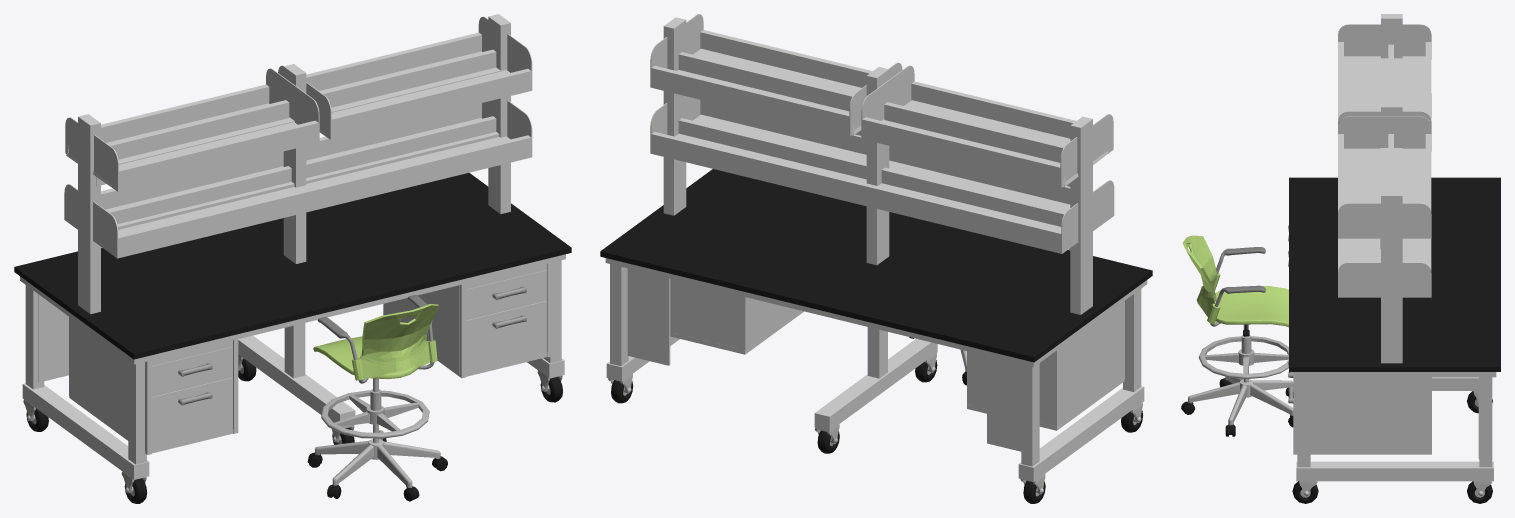
File: Chair and Bench Export.fbx
3 views of the same model, side by side, from view 1: azimuth 30°, elevation 25°; view 2: azimuth 150°, elevation 25°; view 3: azimuth 270°, elevation 25° (orthographic). The views are drawn at different scales.
Visible parts, largest first — view 1: Chair_and_Bench_Scene:Chair_and_Bench_Scene_Chair_and_Bench_ (×42), Chair_and_Bench_Scene:Metal, Chair_and_Bench_Scene:scene__1_:pCube1; view 2: Chair_and_Bench_Scene:Chair_and_Bench_Scene_Chair_and_Bench_ (×36); view 3: Chair_and_Bench_Scene:Chair_and_Bench_Scene_Chair_and_Bench_ (×28), Chair_and_Bench_Scene:Metal, Chair_and_Bench_Scene:scene__1_:pCube1.
Part boxes in pixels (bbox=[...]): Chair_and_Bench_Scene:Chair_and_Bench_Scene_Chair_and_Bench_ (×42): bbox=[14, 14, 571, 479]; Chair_and_Bench_Scene:Metal: bbox=[321, 390, 429, 438]; Chair_and_Bench_Scene:scene__1_:pCube1: bbox=[334, 395, 418, 431]; Chair_and_Bench_Scene:Chair_and_Bench_Scene_Chair_and_Bench_ (×36): bbox=[600, 14, 1152, 481]; Chair_and_Bench_Scene:Chair_and_Bench_Scene_Chair_and_Bench_ (×28): bbox=[1182, 14, 1500, 481]; Chair_and_Bench_Scene:Metal: bbox=[1198, 336, 1288, 378]; Chair_and_Bench_Scene:scene__1_:pCube1: bbox=[1204, 349, 1288, 373].
Bounding box in the file's own units: 136 × 103 × 97.24.
